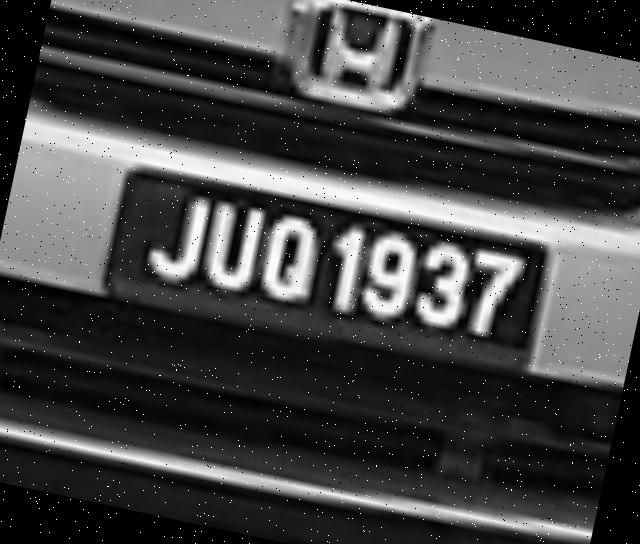License_Plate: (100, 154, 558, 391)
